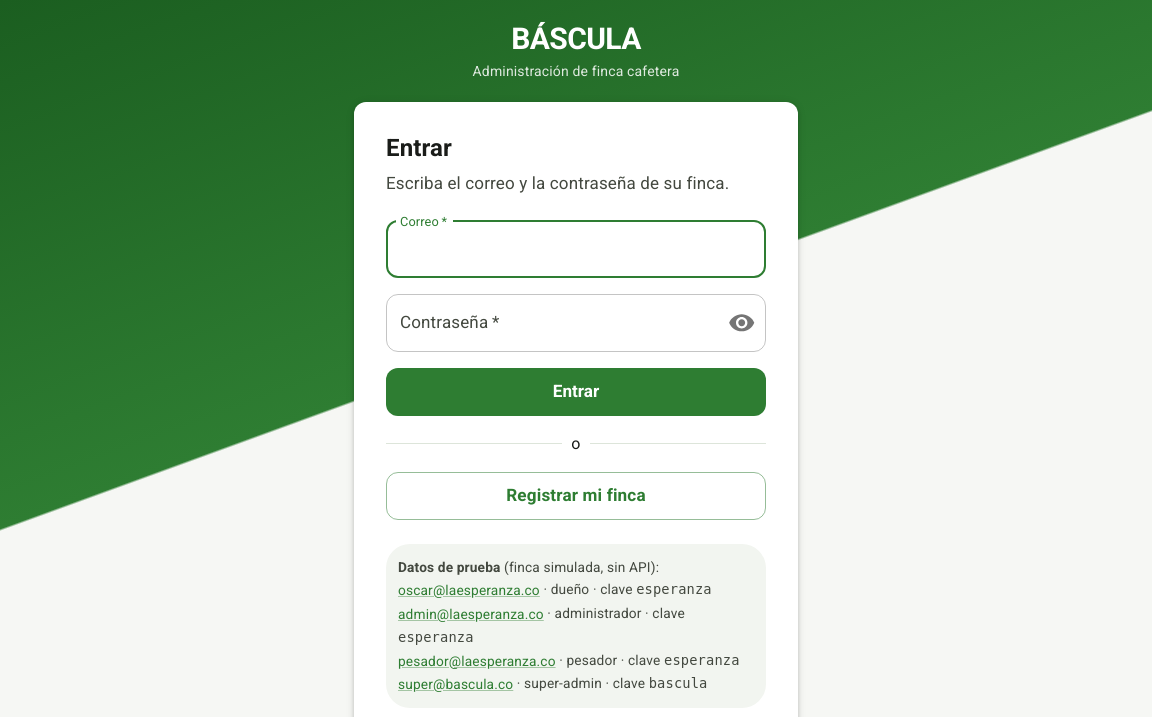
Test case: after signing in › says so when the password is wrong
This screenshot has width=1152, height=717.
Type "oscar@laesperanza.co" into the field labelled "Correo *" at [576, 249], box [386,221,766,278]
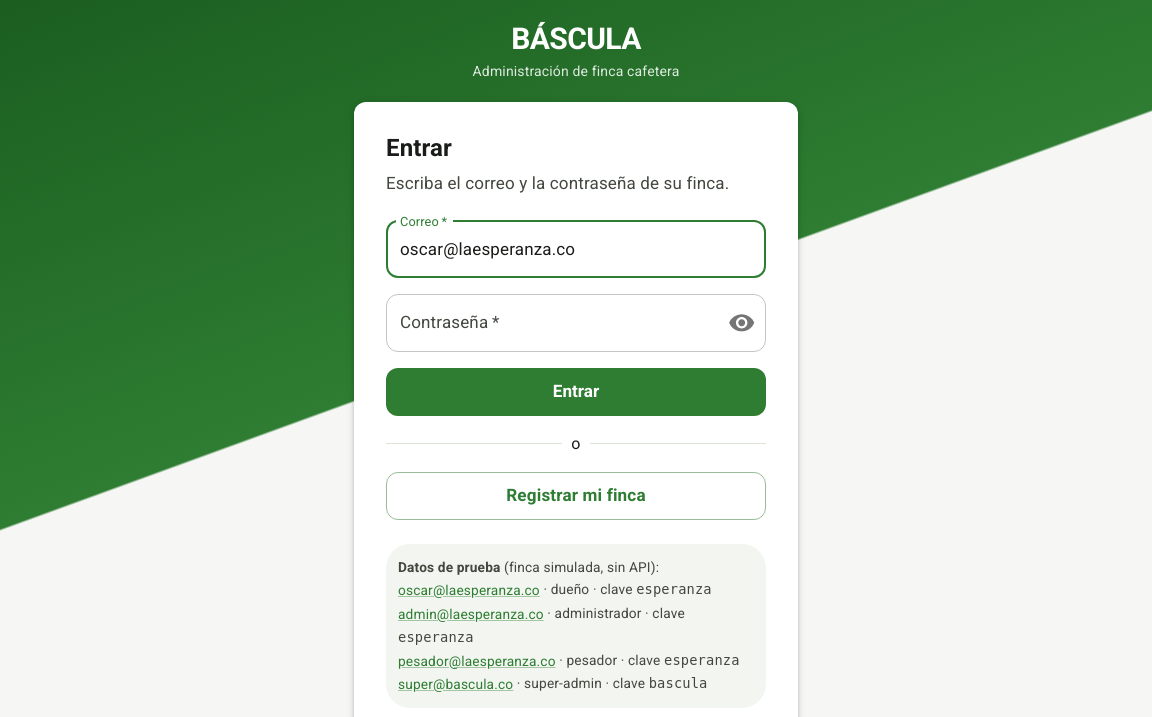
Type "otra-cosa" into the password field labelled "Contraseña *" at [549, 323], box [386,294,712,352]
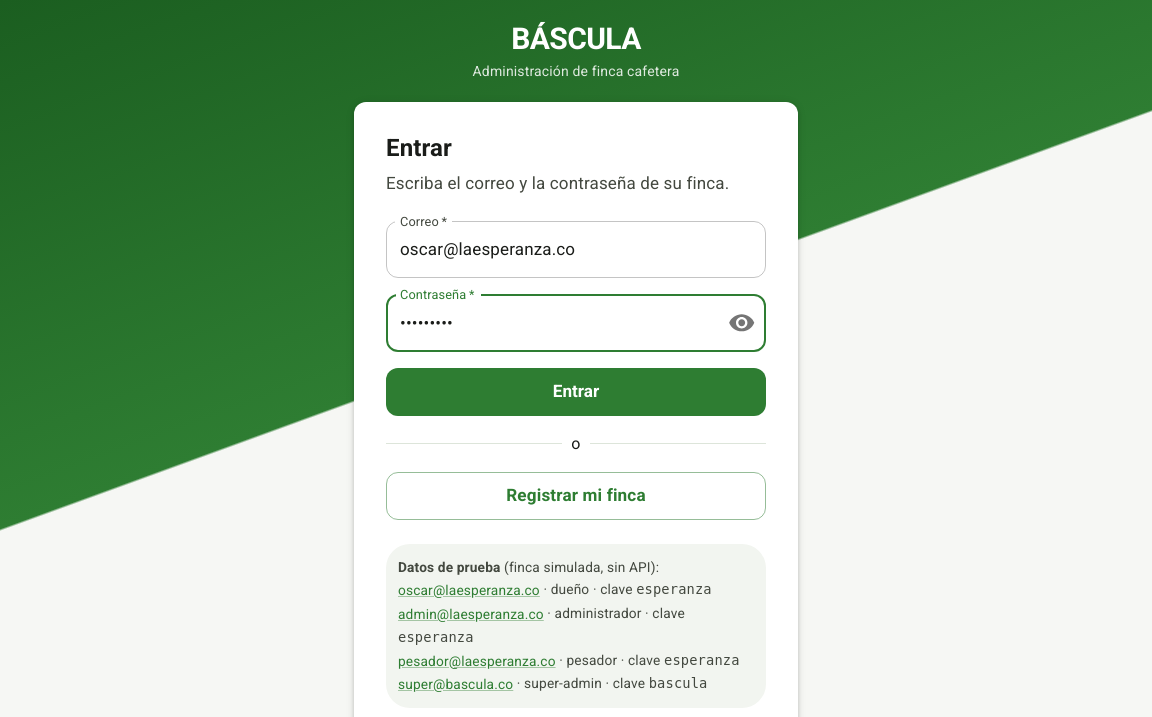
Click the button "Entrar" at [576, 392], box [386,368,766,416]
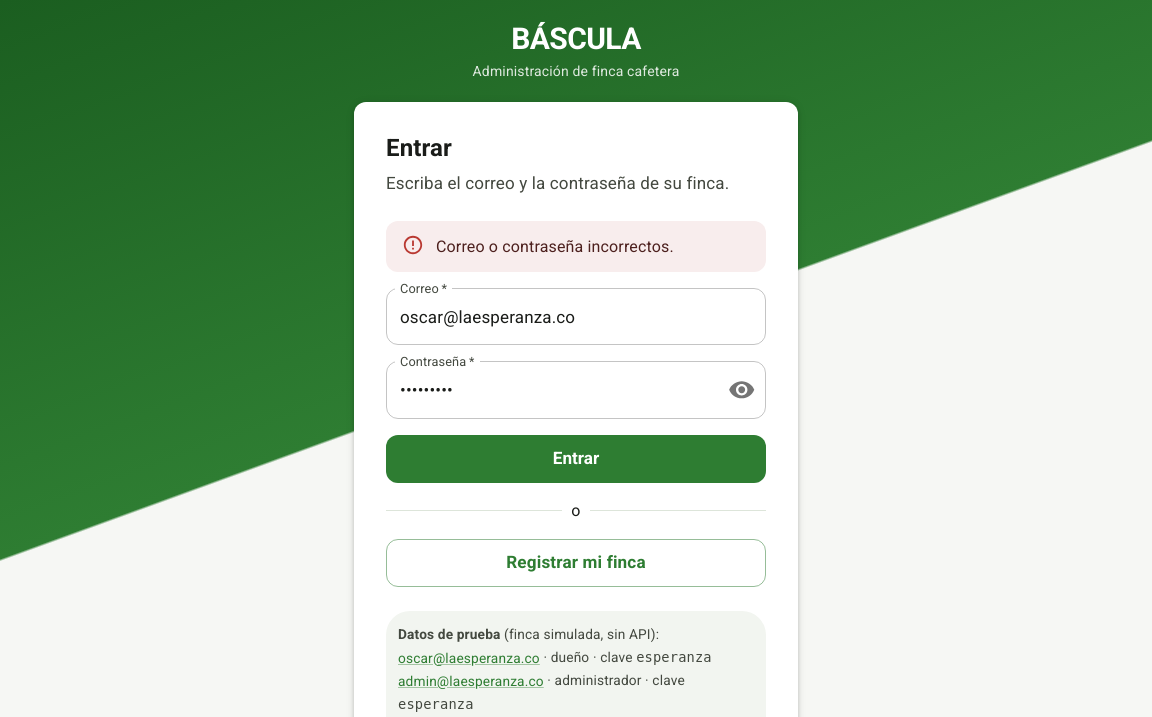
Expected: the button "Entrar" is shown, [386,435,766,483]
Now the message "Correo o contraseña incorrectos." is shown, box [386,221,766,272]
